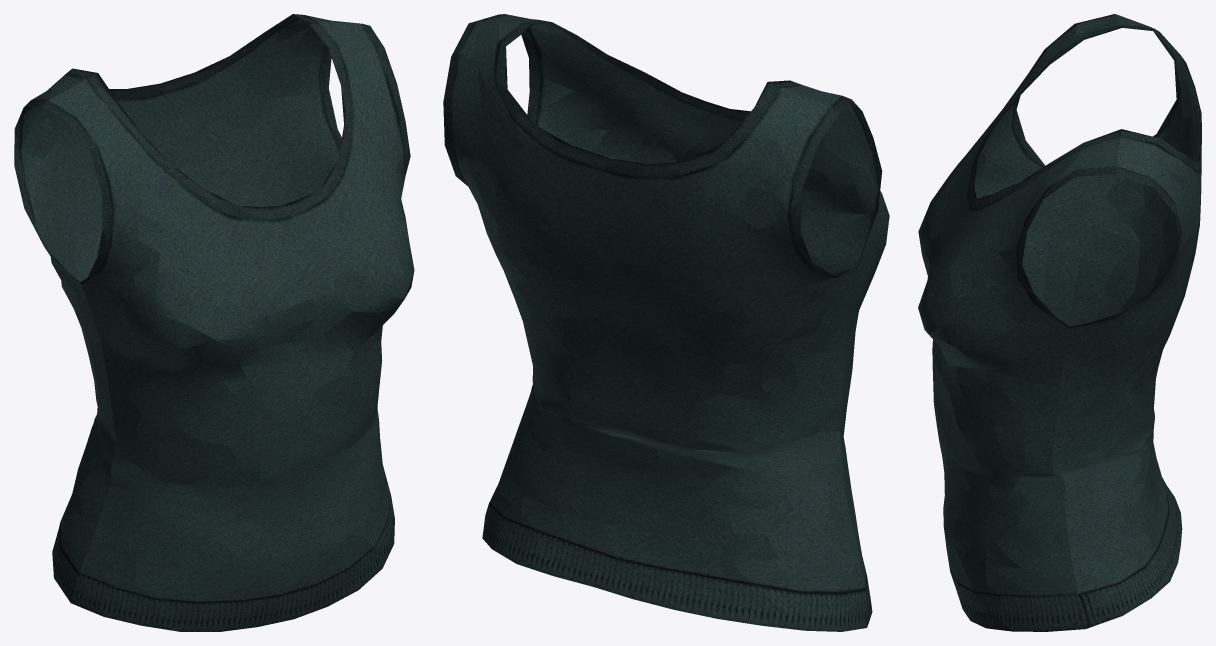
Rendered from elvs-lara-tank1.glb.
The picture shows the model from 3 angles, left to right: view 1: azimuth 30°, elevation 25°; view 2: azimuth 150°, elevation 25°; view 3: azimuth 270°, elevation 25°; orthographic projection. The views are drawn at different scales.
Parts seen in each view (by area): view 1: lara tank; view 2: lara tank; view 3: lara tank.
Part boxes in pixels (left/top/right/bottom): lara tank: left=14, top=14, right=414, bottom=631; lara tank: left=443, top=14, right=889, bottom=631; lara tank: left=918, top=14, right=1201, bottom=631.
Size of the model in its own units: 31.54 by 47.03 by 23.67.
1 material, 1 textured.
